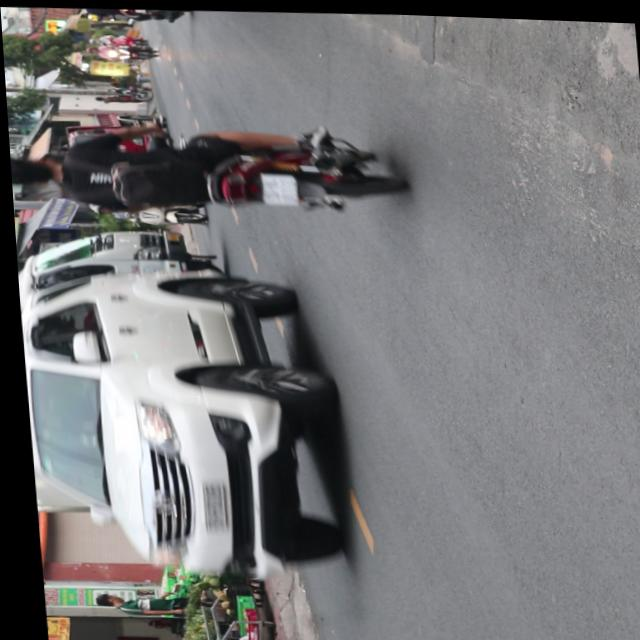licenseplate: (6, 113, 405, 223)
motorcyclist: (8, 154, 60, 189)
nohelmet: (256, 172, 294, 204)
